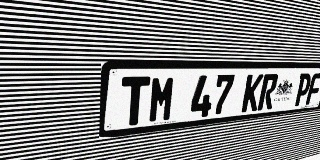4: (189, 75, 216, 119)
7: (210, 75, 235, 116)
F: (305, 73, 320, 105)
K: (241, 74, 264, 113)
M: (148, 76, 176, 123)
P: (293, 73, 313, 106)
R: (257, 74, 279, 111)
T: (120, 76, 150, 127)
